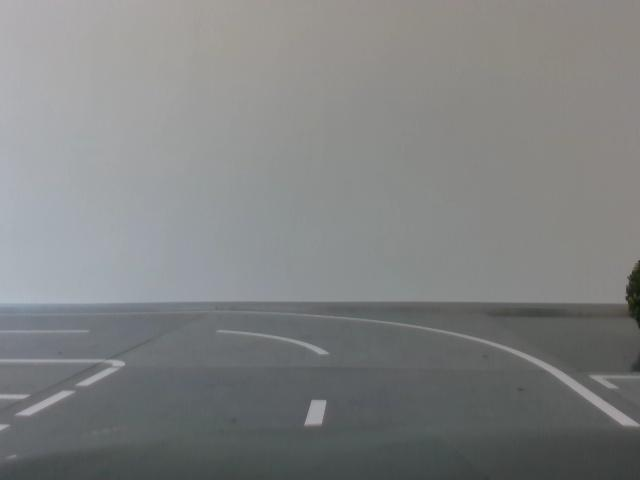potted plant: (626, 259, 640, 359)
